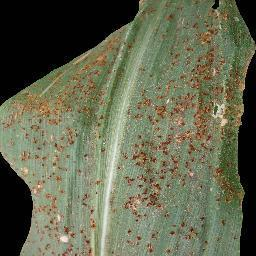Corn_Common_Rust: (113, 0, 256, 256), (38, 30, 113, 256), (0, 80, 37, 256)
